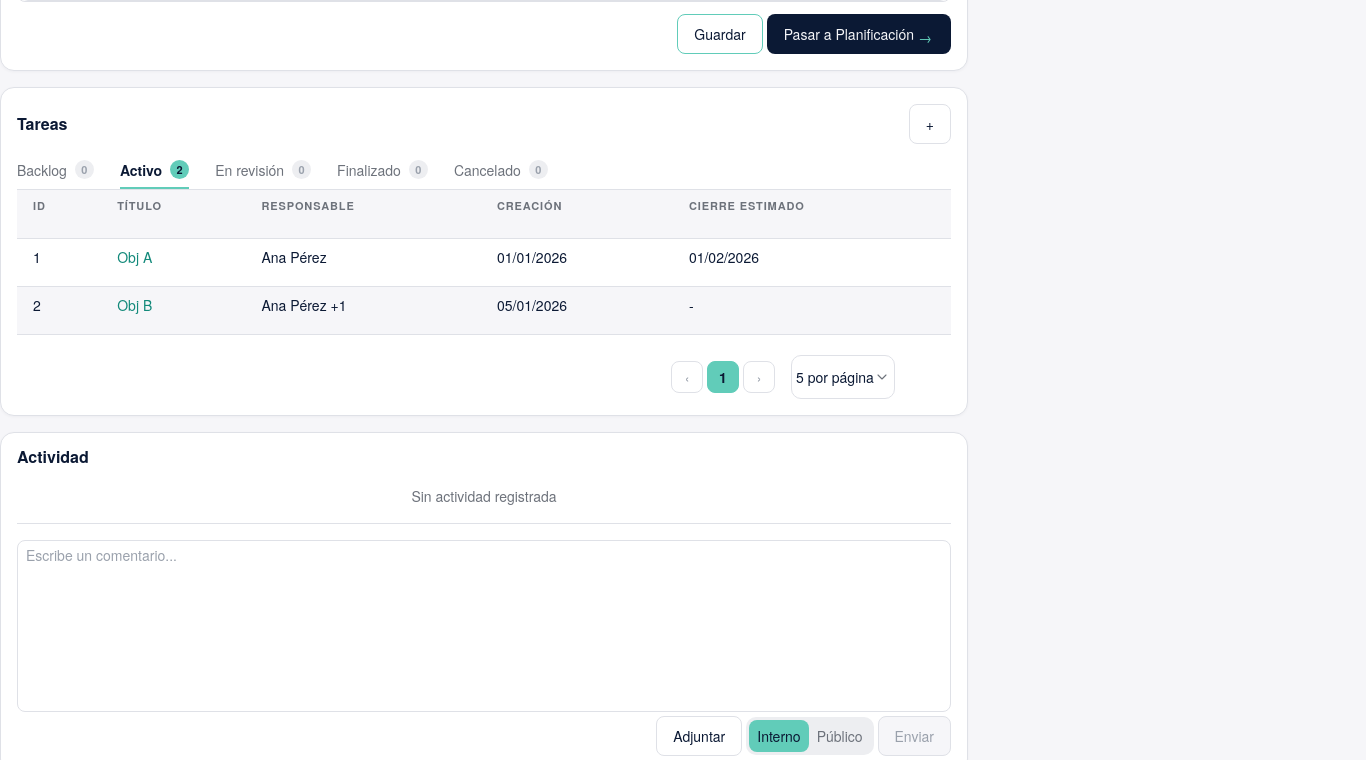
it: RequirementDetail › Card Tareas — linkedObjectives (AC-6/AC-7) › incluye selector de tamaño de página con opciones 5 y 10
This screenshot has width=1366, height=760.
(page scrolled)
What coordinates should you click on to do the following:
click the dropdown
I would click on:
 (843, 377)
Its box is left=791, top=355, right=895, bottom=399.
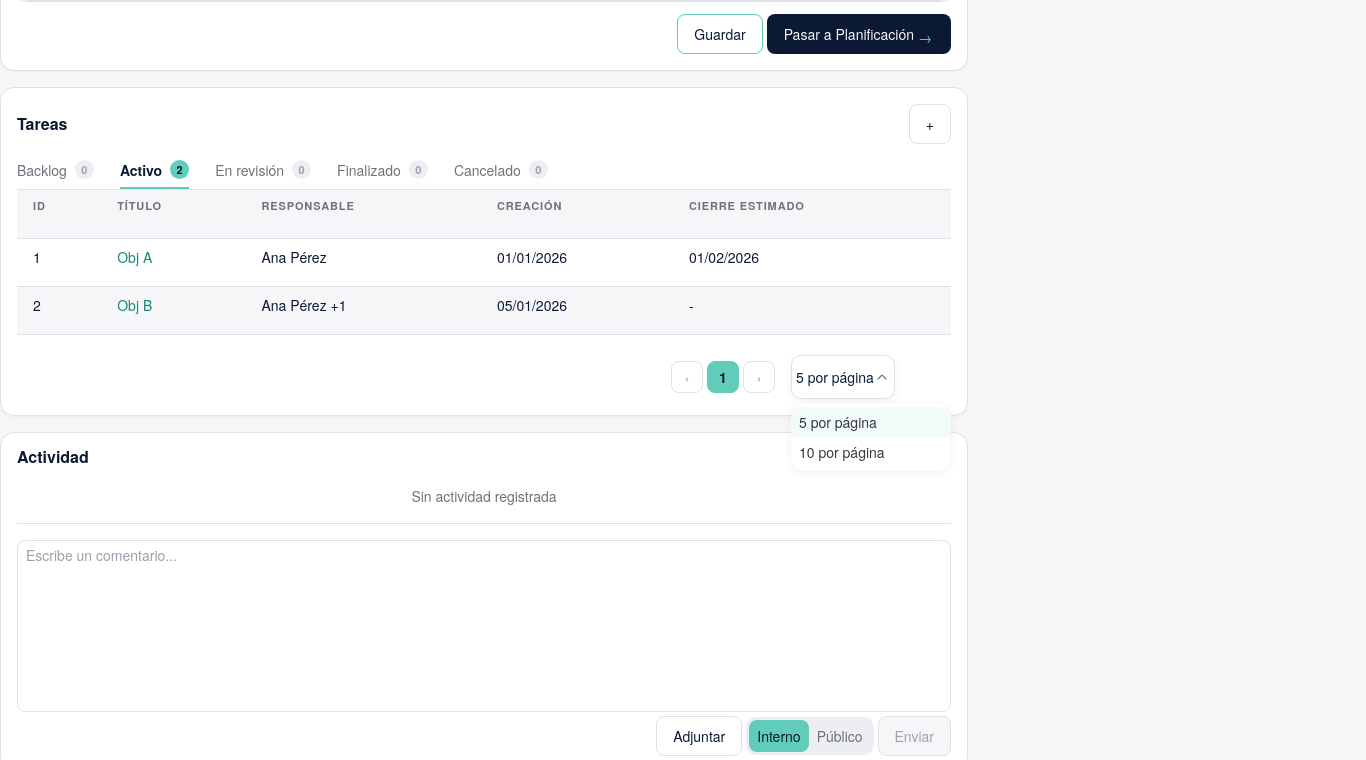
Result: the option "5 por página" is shown at left=791, top=407, right=951, bottom=437
Result: the option "10 por página" is shown at left=799, top=442, right=885, bottom=462
